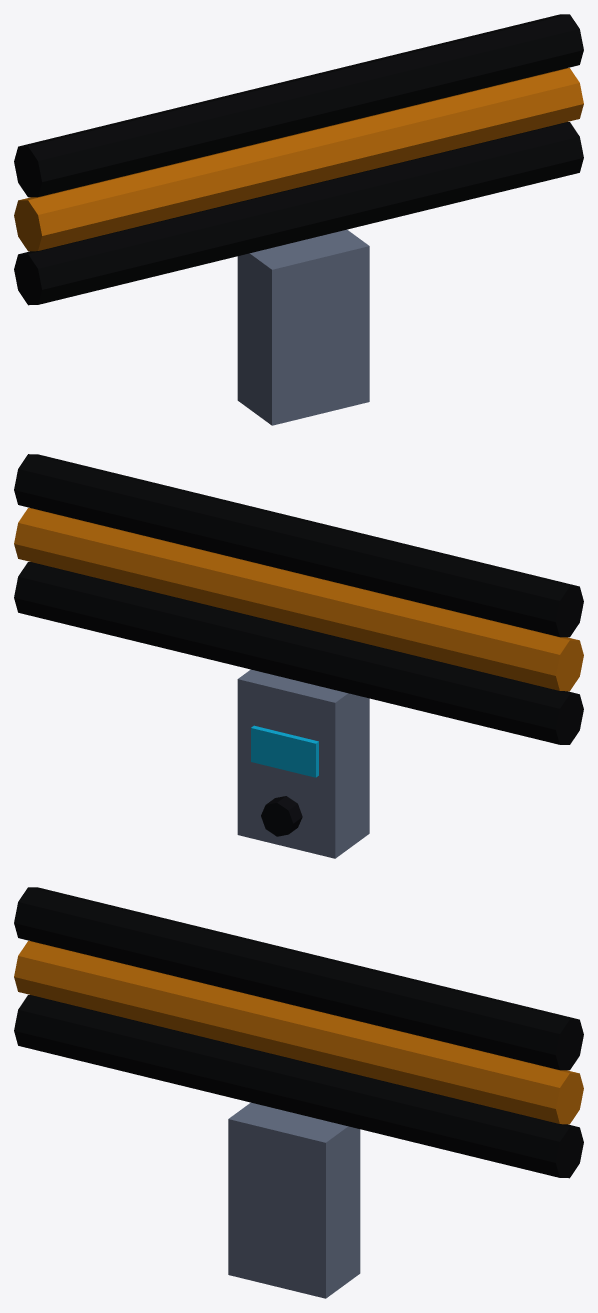
File: NeonCityV5_Run_Cable_Meter_Side.fbx
3 renders of one model, top to bottom at view 1: azimuth 30°, elevation 25°; view 2: azimuth 150°, elevation 25°; view 3: azimuth 330°, elevation 25°, orthographic.
Parts seen in each view (by area): view 1: NeonCityV5_Run_Cable_Meter_Side; view 2: NeonCityV5_Run_Cable_Meter_Side; view 3: NeonCityV5_Run_Cable_Meter_Side.
Part boxes in pixels (left/top/right/bottom): NeonCityV5_Run_Cable_Meter_Side: left=14, top=14, right=583, bottom=425; NeonCityV5_Run_Cable_Meter_Side: left=14, top=454, right=583, bottom=858; NeonCityV5_Run_Cable_Meter_Side: left=14, top=887, right=583, bottom=1298.
Size of the model in its own units: 1 by 0.56 by 0.14.
